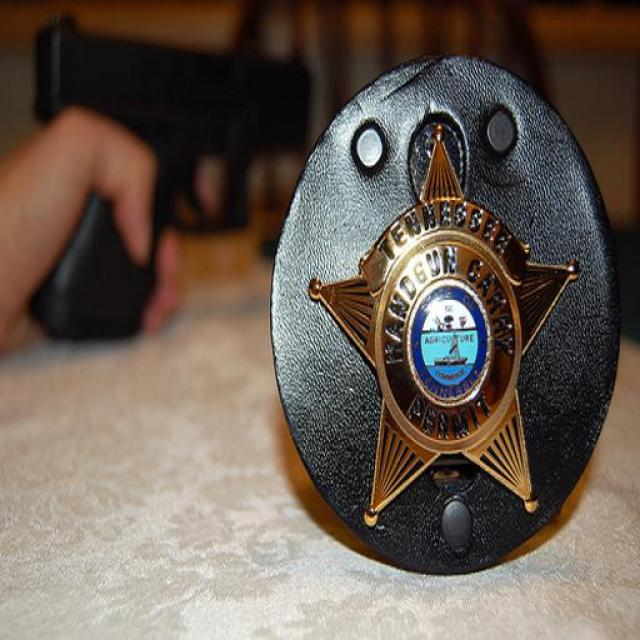pistol: (30, 9, 310, 341)
